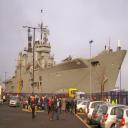Portanaves: (2, 7, 128, 110)
